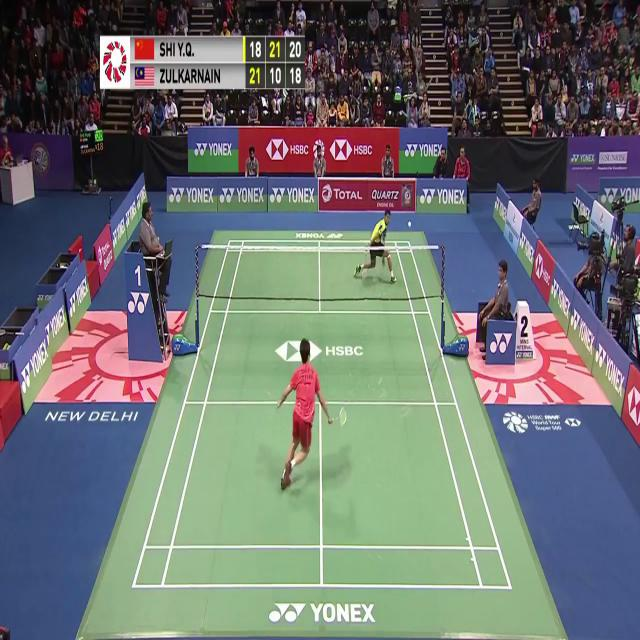Shuttlecock: (407, 218, 413, 230)
